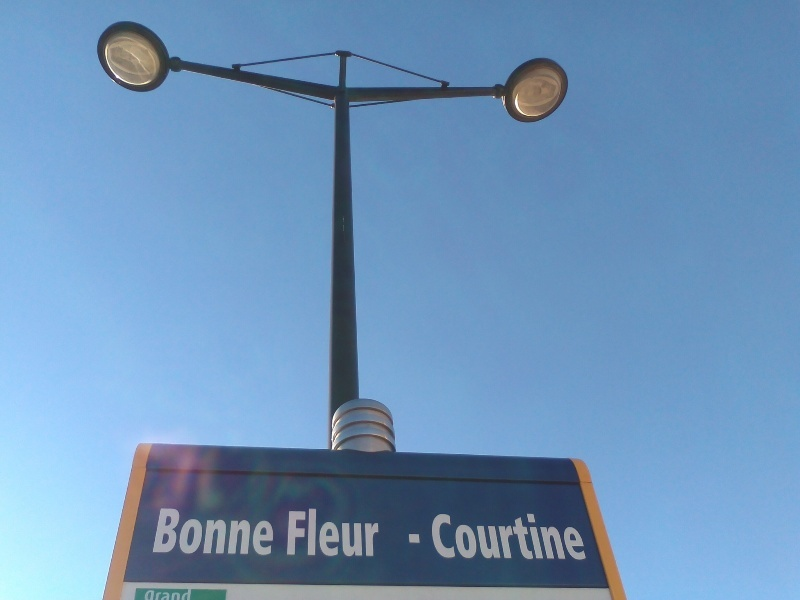text: (289, 503, 304, 558), (305, 503, 320, 558), (321, 503, 336, 558), (337, 503, 352, 558), (353, 503, 368, 558), (161, 508, 176, 556), (177, 508, 192, 556), (193, 508, 208, 556), (209, 508, 224, 556), (225, 508, 240, 556), (241, 508, 256, 556), (257, 508, 272, 556), (433, 513, 448, 561), (449, 513, 464, 561), (465, 513, 480, 561), (481, 513, 496, 561), (497, 513, 512, 561), (513, 513, 528, 561), (529, 513, 544, 561), (545, 513, 560, 561), (561, 513, 576, 561), (577, 513, 589, 561), (369, 503, 379, 558), (426, 513, 432, 561), (404, 529, 416, 547), (145, 589, 160, 600), (161, 589, 176, 600), (177, 589, 192, 600), (417, 529, 426, 547), (273, 508, 274, 556), (193, 589, 195, 600)
